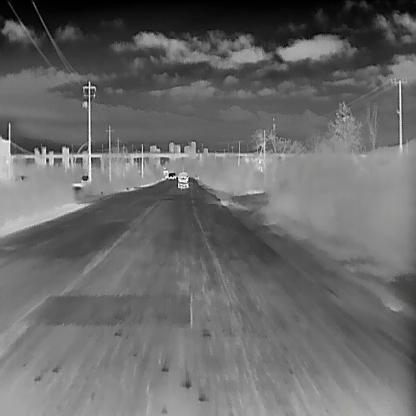car: (176, 172, 188, 188), (79, 175, 88, 184), (166, 171, 173, 179)
